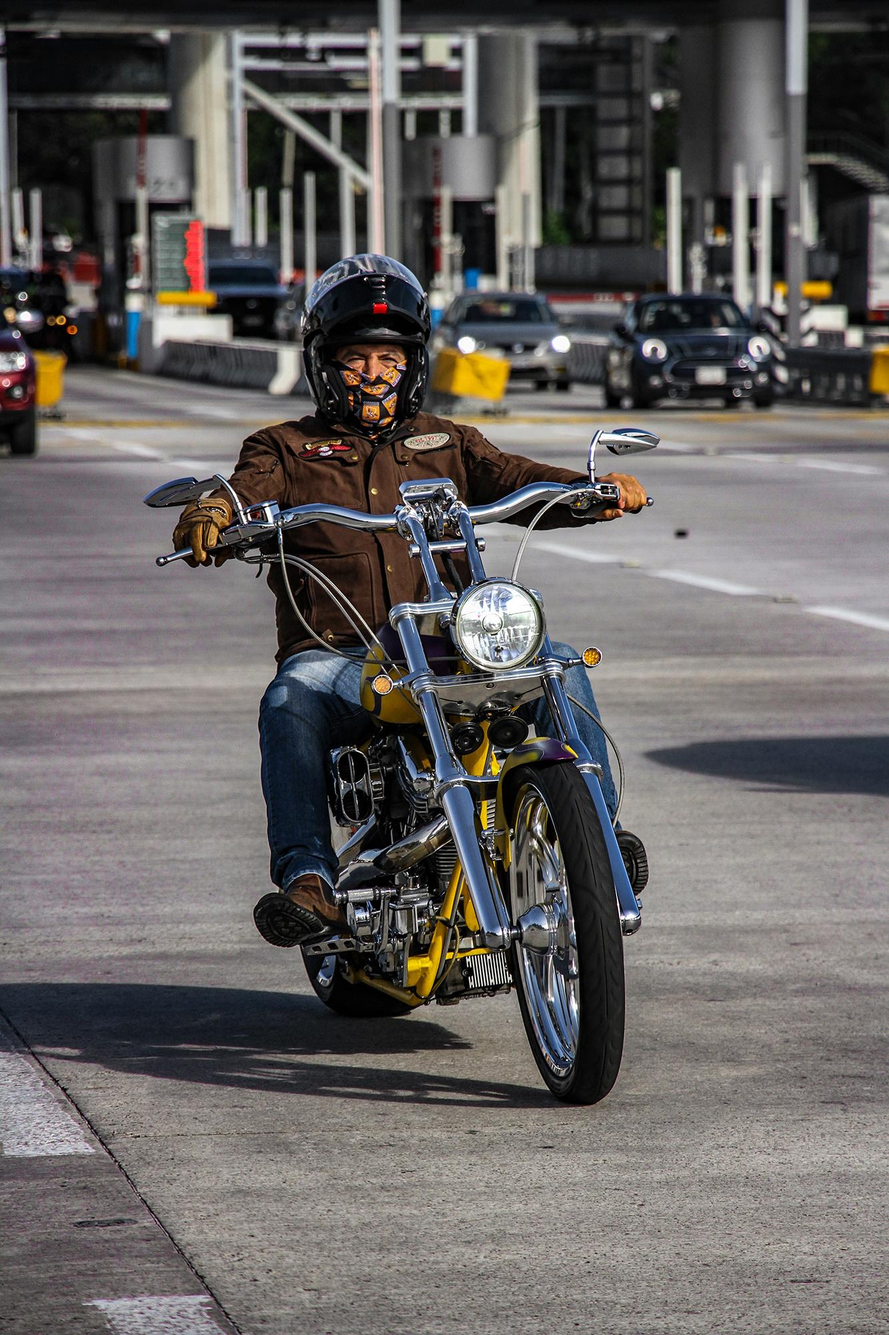helmet: (299, 252, 432, 442)
